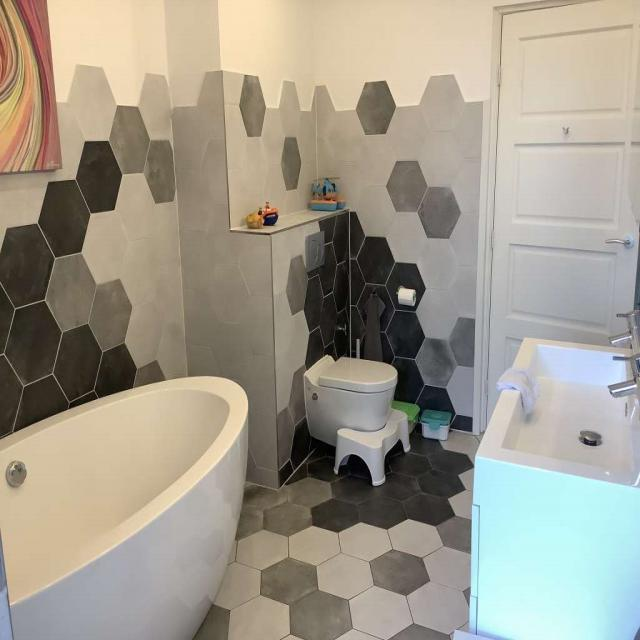bath: (0, 374, 252, 640)
toilet: (302, 352, 398, 454)
wastafel: (466, 449, 640, 640), (473, 296, 640, 492)
